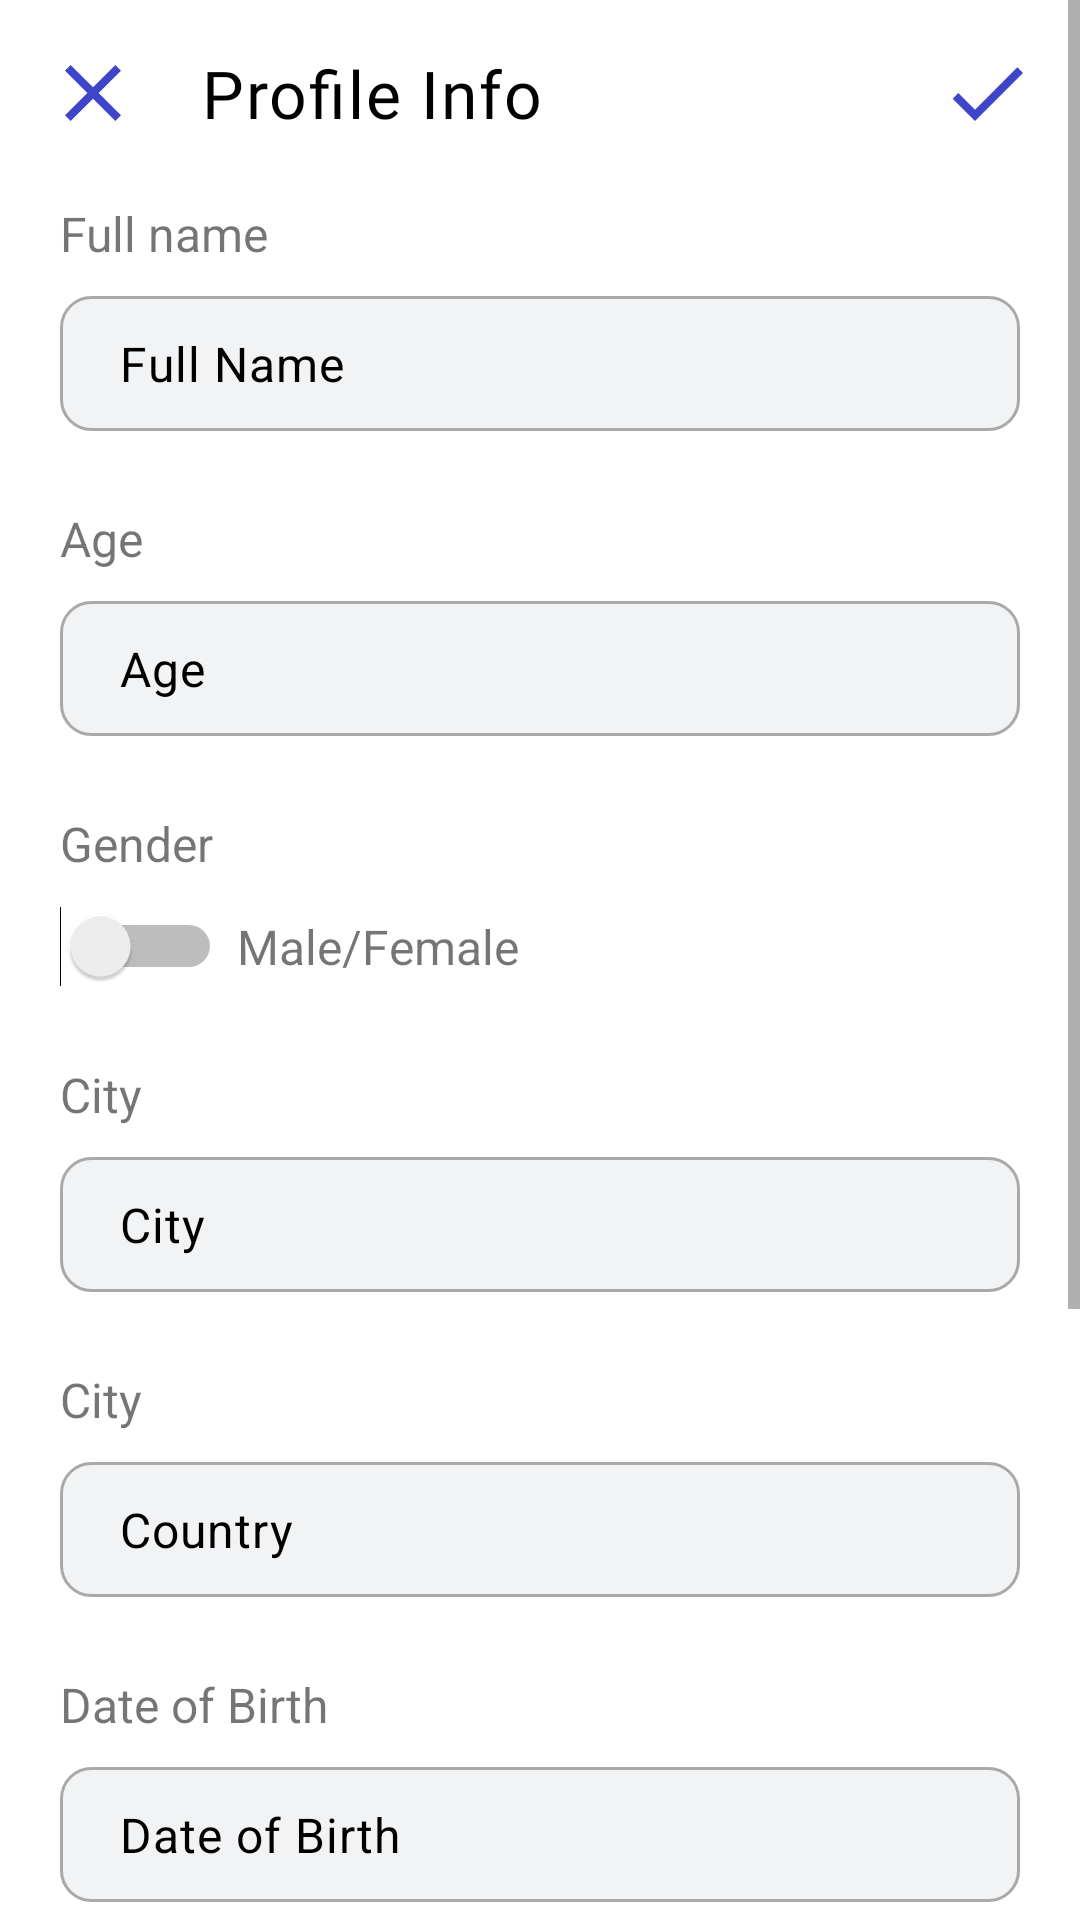

Icon click points for this 1080px x 1920px phone screenshot, format point (x, y):
check: point (988, 94)
close: point (93, 93)
